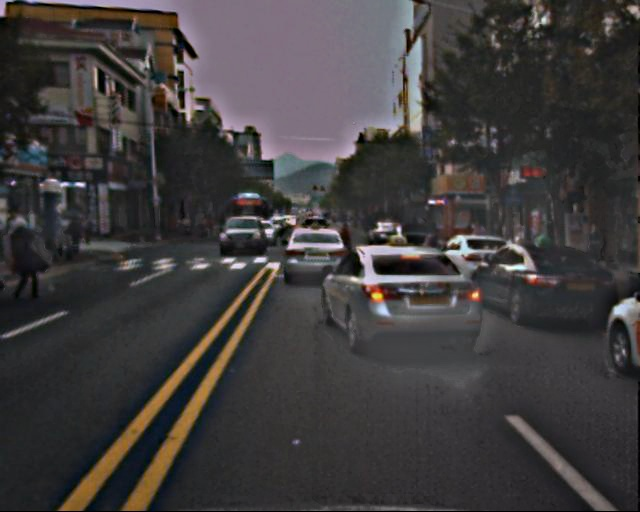person: (12, 224, 58, 298), (4, 203, 44, 260), (579, 220, 609, 294), (69, 211, 94, 246)
